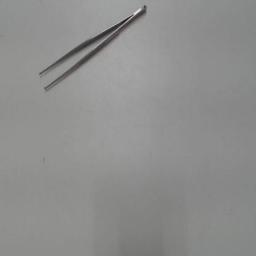Gillies Toothed Dissector: (32, 1, 156, 97)
